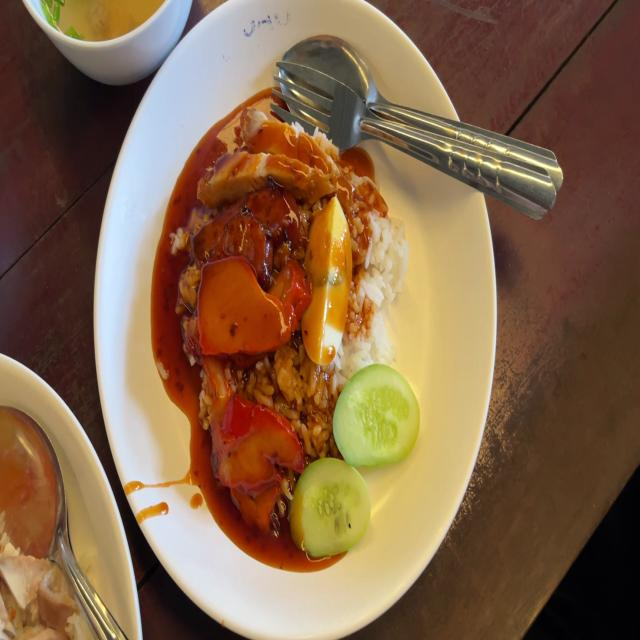01boiled_egg: (306, 199, 354, 363)
01chainese_sausage: (198, 187, 298, 271)
01crispy_pork: (195, 106, 338, 202)
01red_pork: (208, 396, 301, 524), (197, 260, 311, 354)
01red_pork_and_crispy_pork: (180, 104, 422, 560)
boiled_chicken: (0, 542, 72, 640)
chicken_rice: (0, 485, 93, 640)
cucumber: (338, 364, 421, 471), (290, 457, 372, 559)
